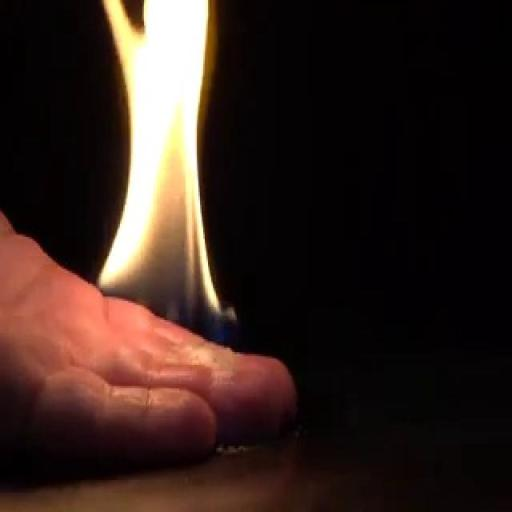smoke: (149, 132, 211, 344)
